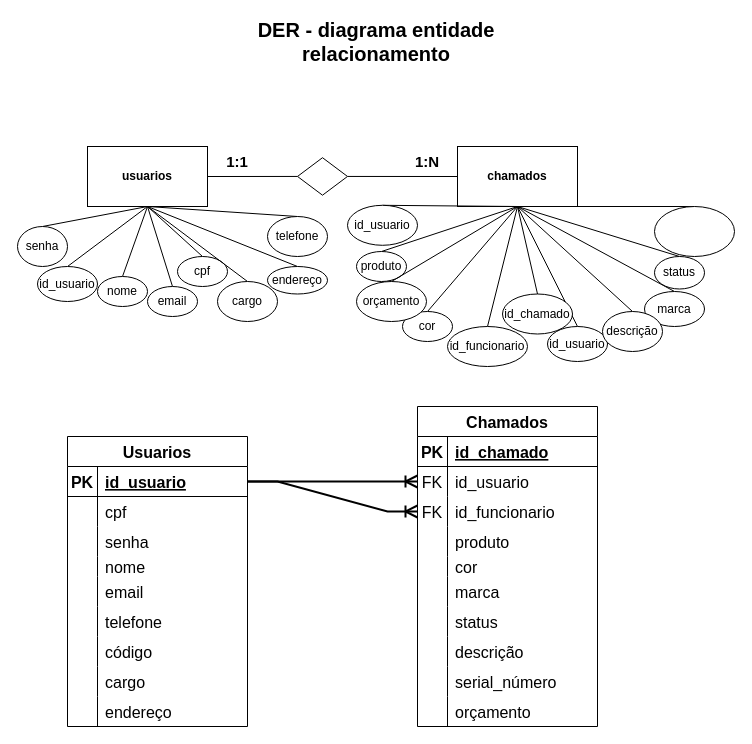
Image size: 752x744. Some labels were removed from this diagram. The shapes that lost their labels are listed below. From the top down, each one's centre as x and y in pixels, then its label:
At (x=322, y=176): "tem".
At (x=694, y=231): "serial_numero".
